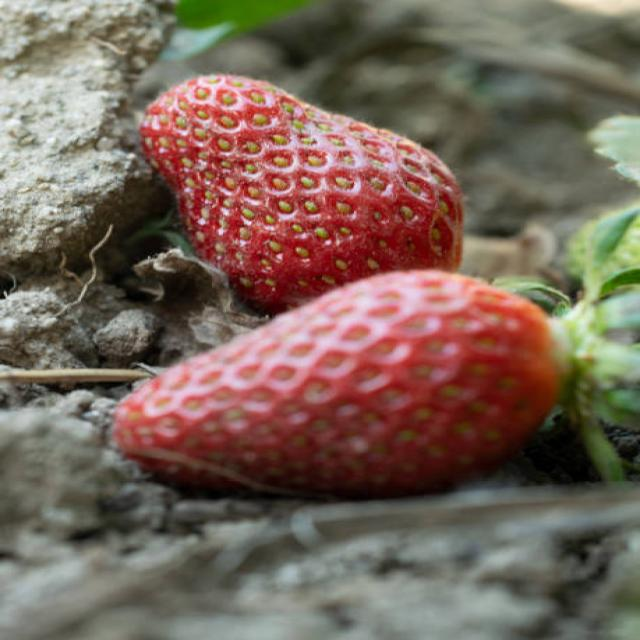Healthy Fruit: (113, 269, 558, 487), (141, 72, 467, 308)
